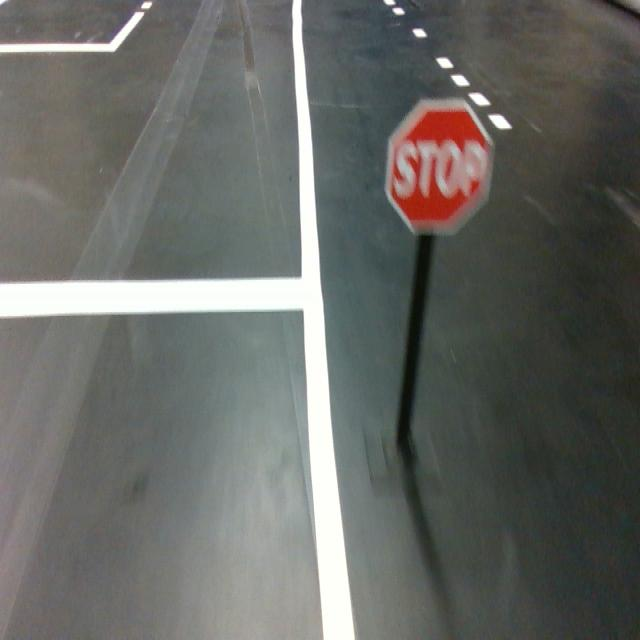stop-sign: (382, 96, 497, 238)
